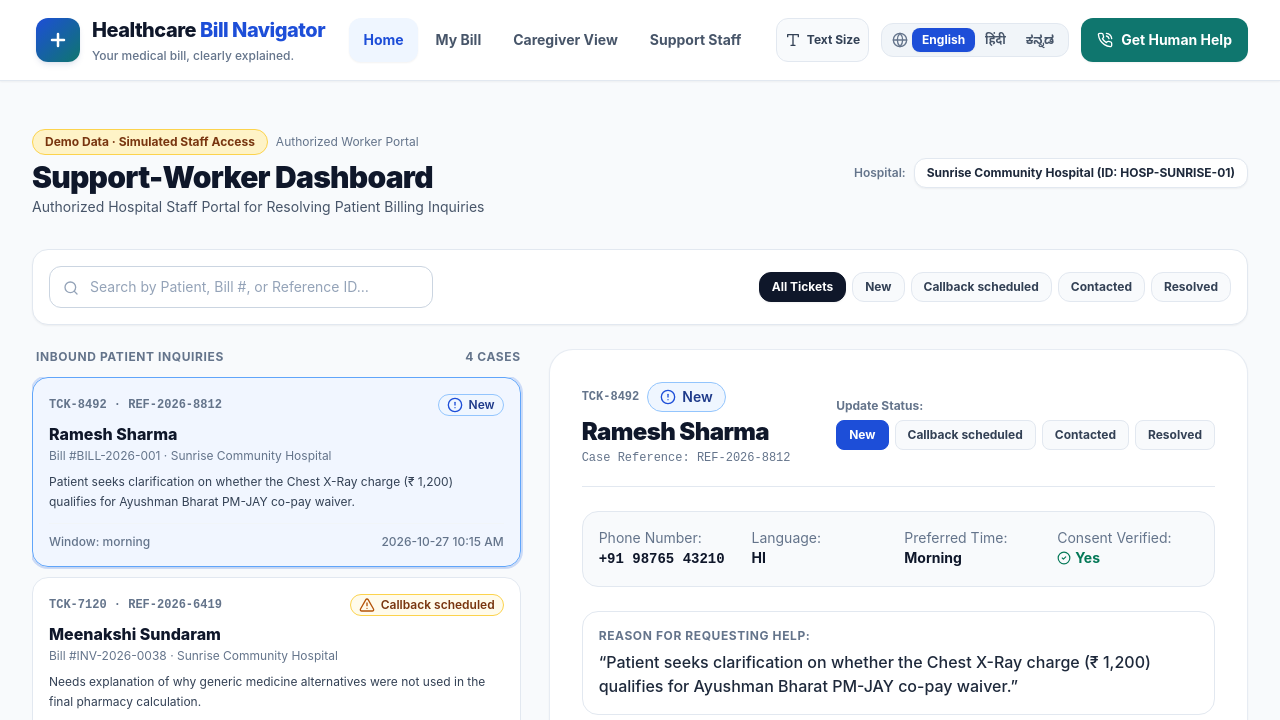
Test case: SupportWorkerDashboard › allows updating ticket status
The image size is (1280, 720).
Note: Click the status update button in the right details panel
Click the button "Callback scheduled" below "Update Status" at (965,435), box [894, 420, 1036, 450]
(page scrolled)
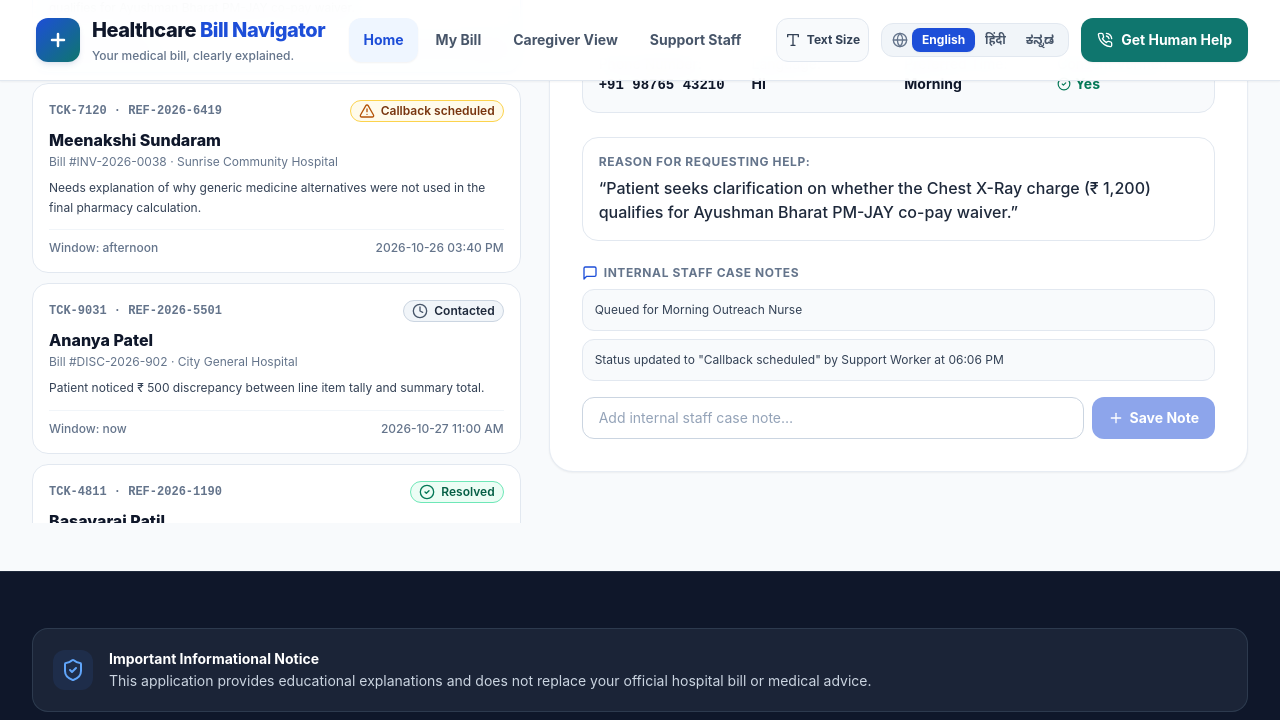
Now the text "Status updated to \"Callback scheduled\"" is shown, box [595, 352, 1004, 367]
